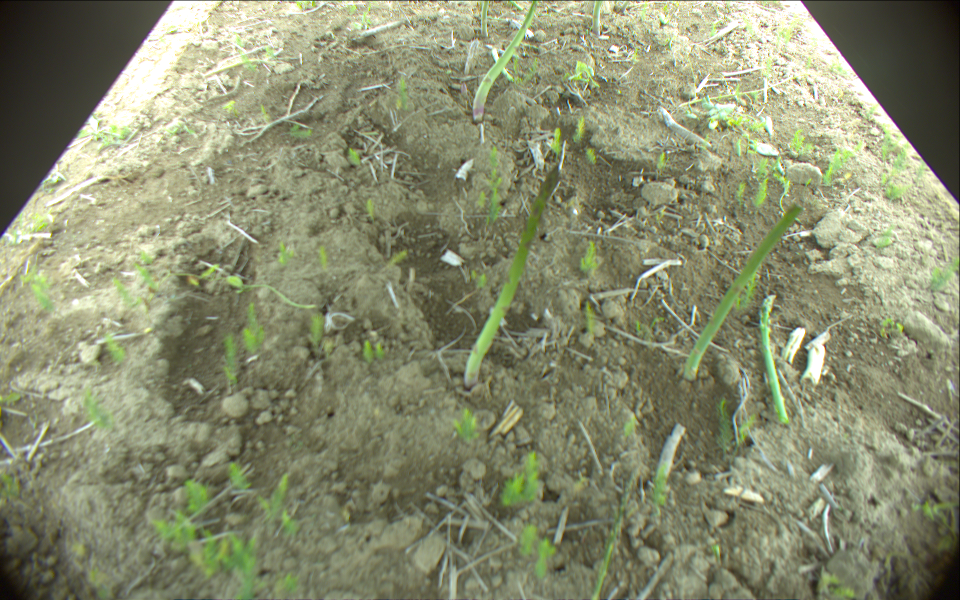aspa: (463, 164, 560, 389), (683, 202, 802, 379), (473, 1, 535, 121), (758, 293, 788, 424), (652, 424, 685, 503), (480, 1, 488, 36), (593, 1, 601, 35)
